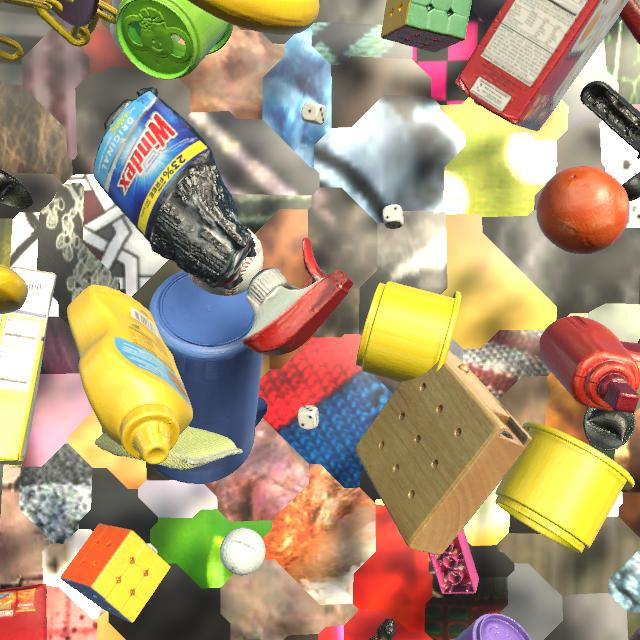ycb_003_cracker_box: (455, 0, 629, 131), (0, 584, 47, 640)
ycb_004_sugar_box: (0, 266, 57, 465)
ycb_006_mustard_bottle: (67, 285, 193, 465)
ycb_011_banana: (188, 0, 319, 35), (0, 264, 28, 314)
ycb_017_orange: (536, 166, 629, 254)
